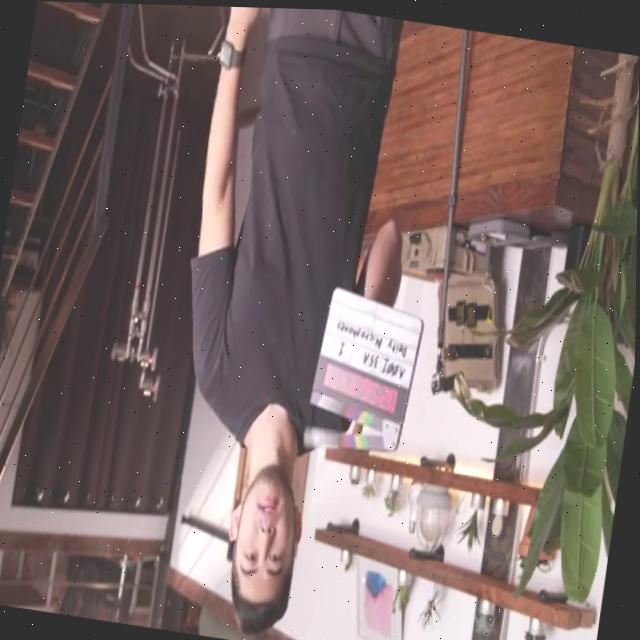Clapperboard: (303, 282, 430, 462)
